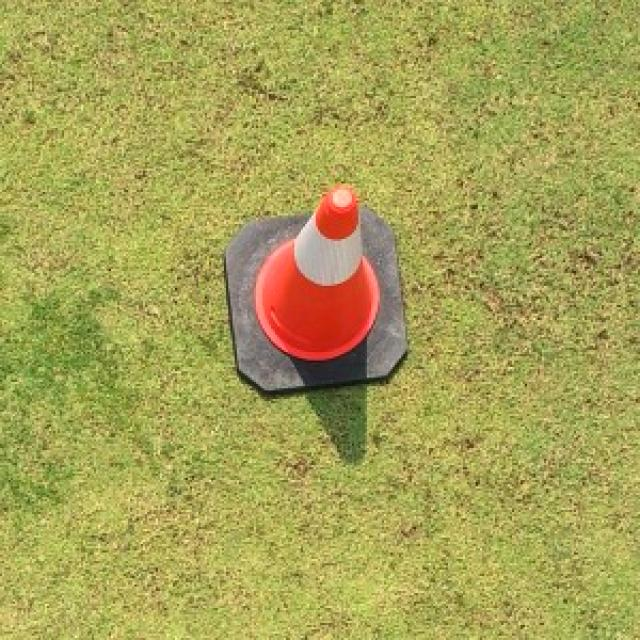cone: (222, 184, 412, 398)
